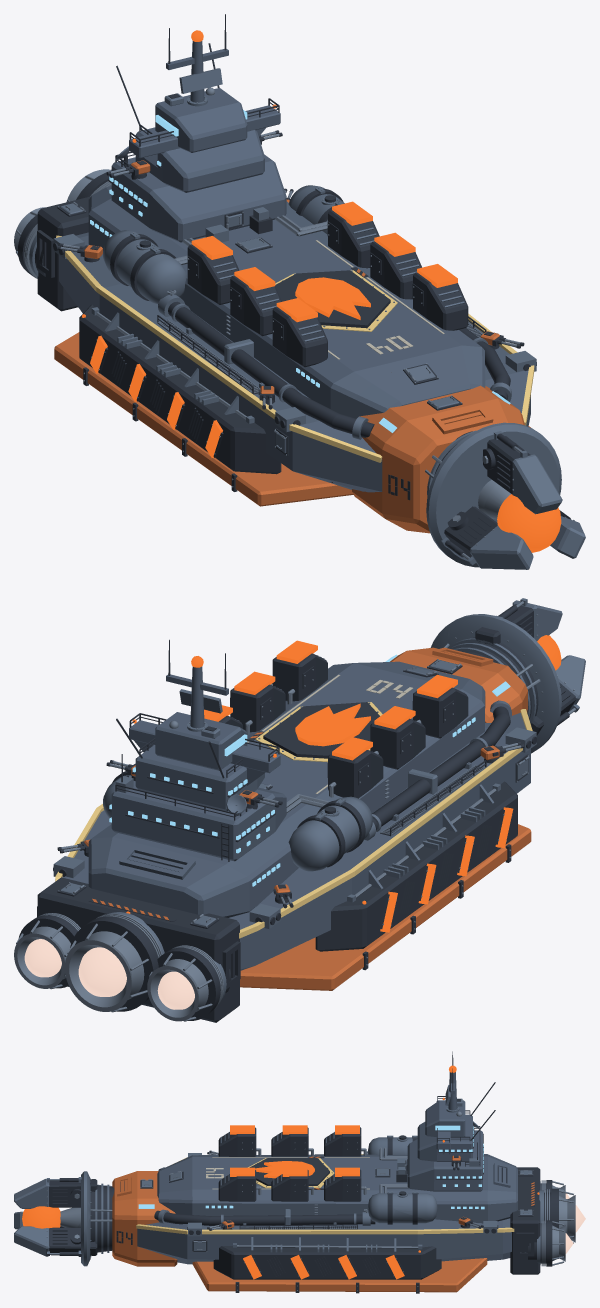
The model's file is pyre_wreck.glb.
The picture shows the model from 3 angles, top to bottom: view 1: azimuth 30°, elevation 25°; view 2: azimuth 150°, elevation 25°; view 3: azimuth 270°, elevation 25°; orthographic projection. The views are drawn at different scales.
Parts seen in each view (by area): view 1: pyre_wreck_03, pyre_wreck_07, pyre_wreck_02, pyre_wreck_09, pyre_wreck_04, pyre_wreck_06, pyre_wreck_12, pyre_wreck_17, pyre_wreck_00, pyre_wreck_19, pyre_wreck_15, pyre_wreck_10 (+2 smaller); view 2: pyre_wreck_01, pyre_wreck_07, pyre_wreck_19, pyre_wreck_04, pyre_wreck_02, pyre_wreck_10, pyre_wreck_03, pyre_wreck_00, pyre_wreck_09, pyre_wreck_06, pyre_wreck_14, pyre_wreck_15 (+3 smaller); view 3: pyre_wreck_05, pyre_wreck_00, pyre_wreck_14, pyre_wreck_17, pyre_wreck_16, pyre_wreck_08, pyre_wreck_06, pyre_wreck_12, pyre_wreck_02, pyre_wreck_07, pyre_wreck_01, pyre_wreck_18 (+5 smaller).
Boxes of the visible parts, left/top/right/bottom form: pyre_wreck_03: left=311, top=375, right=533, bottom=545; pyre_wreck_07: left=99, top=236, right=287, bottom=435; pyre_wreck_02: left=224, top=269, right=401, bottom=438; pyre_wreck_09: left=162, top=356, right=331, bottom=506; pyre_wreck_04: left=103, top=84, right=235, bottom=277; pyre_wreck_06: left=246, top=201, right=421, bottom=306; pyre_wreck_12: left=455, top=429, right=585, bottom=569; pyre_wreck_17: left=391, top=297, right=536, bottom=426; pyre_wreck_00: left=204, top=49, right=344, bottom=240; pyre_wreck_19: left=23, top=180, right=126, bottom=311; pyre_wreck_15: left=116, top=14, right=240, bottom=147; pyre_wreck_10: left=54, top=267, right=127, bottom=411; pyre_wreck_01: left=27, top=858, right=224, bottom=1022; pyre_wreck_07: left=259, top=718, right=460, bottom=935; pyre_wreck_19: left=148, top=832, right=313, bottom=1016; pyre_wreck_04: left=184, top=732, right=345, bottom=878; pyre_wreck_02: left=330, top=674, right=536, bottom=788; pyre_wreck_10: left=240, top=862, right=405, bottom=990; pyre_wreck_03: left=429, top=610, right=562, bottom=736; pyre_wreck_00: left=97, top=713, right=200, bottom=858; pyre_wreck_09: left=432, top=739, right=536, bottom=910; pyre_wreck_06: left=204, top=671, right=349, bottom=787; pyre_wreck_14: left=14, top=831, right=135, bottom=988; pyre_wreck_15: left=116, top=639, right=245, bottom=758; pyre_wreck_05: left=197, top=1167, right=303, bottom=1292; pyre_wreck_00: left=391, top=1113, right=502, bottom=1224; pyre_wreck_14: left=441, top=1181, right=568, bottom=1287; pyre_wreck_17: left=112, top=1168, right=227, bottom=1262; pyre_wreck_16: left=289, top=1205, right=395, bottom=1293; pyre_wreck_08: left=362, top=1210, right=461, bottom=1293; pyre_wreck_06: left=264, top=1161, right=391, bottom=1214; pyre_wreck_12: left=14, top=1178, right=91, bottom=1256; pyre_wreck_02: left=174, top=1125, right=303, bottom=1178; pyre_wreck_07: left=298, top=1125, right=405, bottom=1172; pyre_wreck_01: left=501, top=1174, right=585, bottom=1259; pyre_wreck_18: left=69, top=1210, right=154, bottom=1266.
Bounding box in the file's own units: 4.18 × 4.75 × 11.42.
16 materials, 1 textured.
